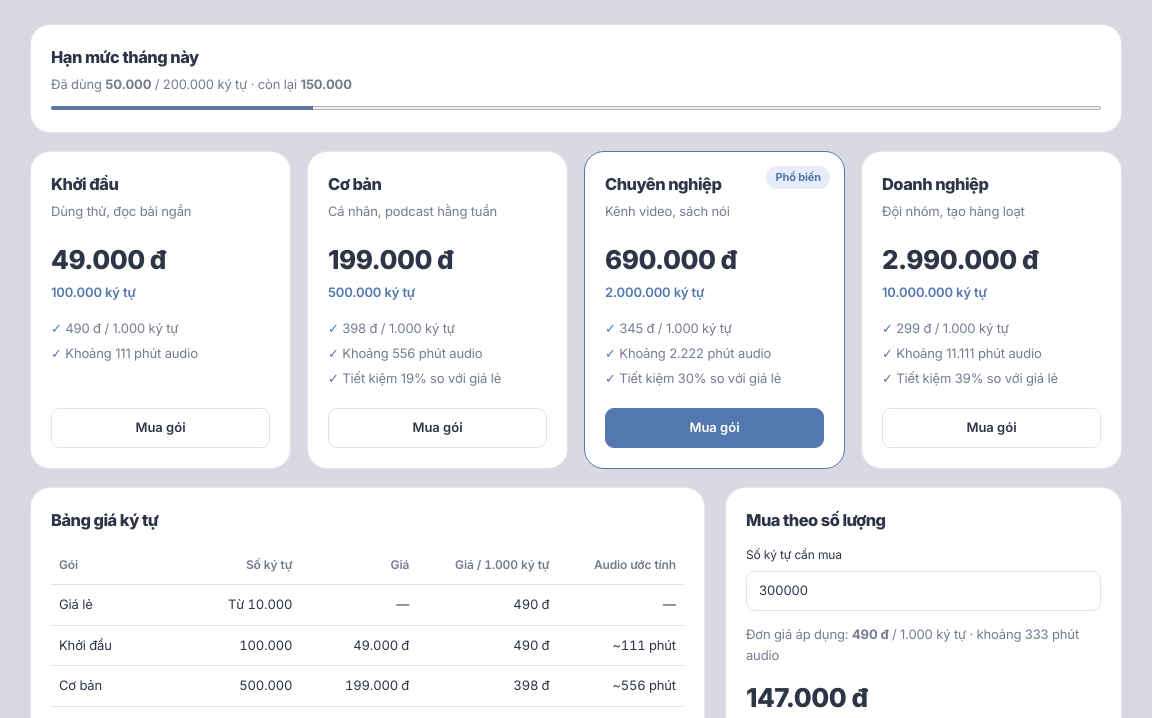
Credits screen › opens an order summary without charging
Click the button "Mua gói" below "Dùng thử, đọc bài ngắn": (160, 428) [51, 408, 270, 448]
(page scrolled)
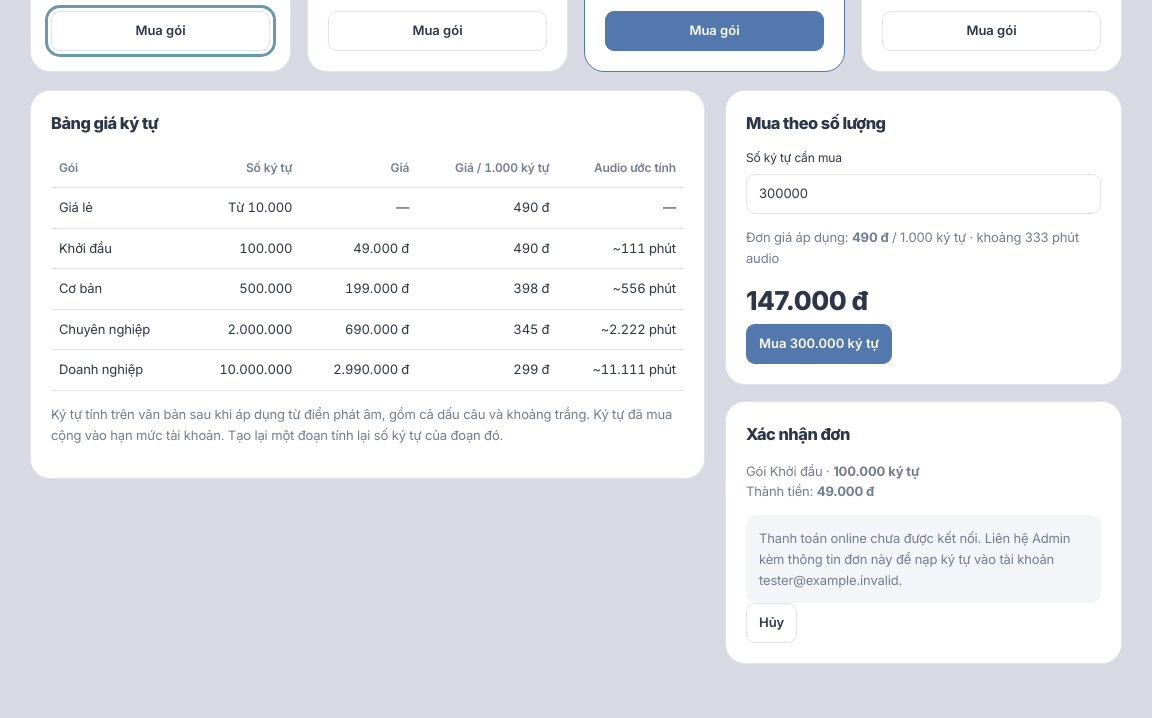
Check: the message shows "Thanh toán online chưa được kết nối", box [759, 530, 1070, 567]
